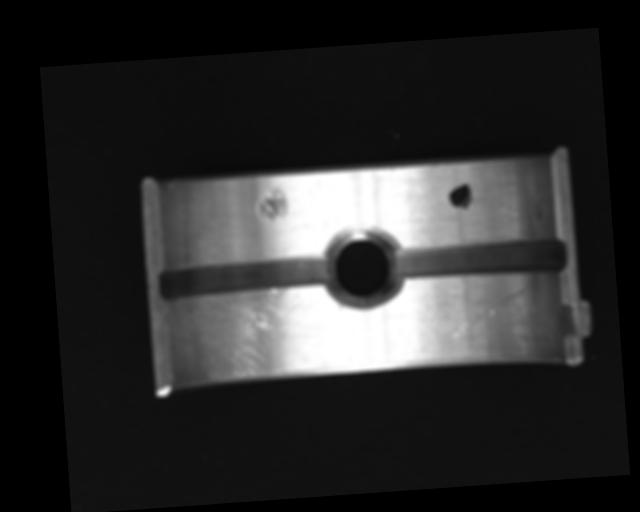blot: (447, 182, 473, 211)
bruise: (257, 184, 289, 222)
gap: (156, 254, 335, 302), (395, 236, 568, 280)
hole: (323, 223, 404, 311)
nick: (447, 287, 531, 339)
scratch: (174, 283, 337, 385)
